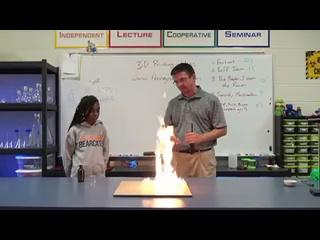Fire: (143, 100, 187, 192)
